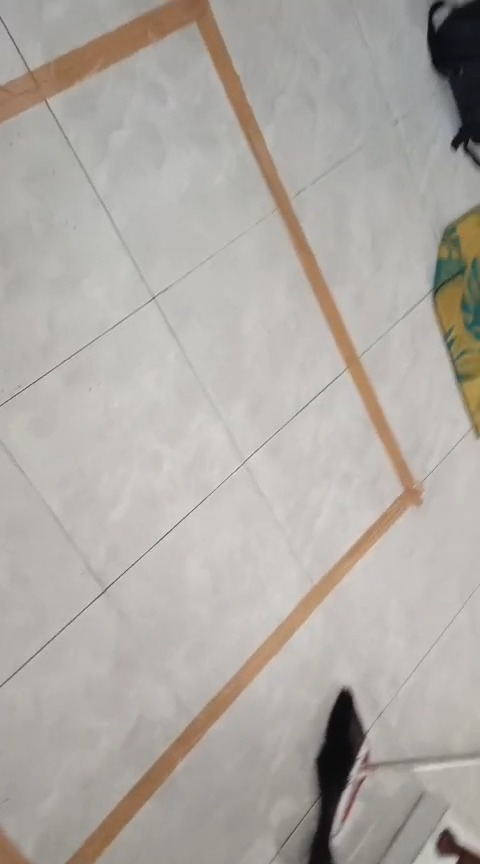floor marking: (198, 0, 420, 505), (67, 574, 329, 863), (2, 0, 219, 119), (216, 58, 300, 253), (333, 406, 420, 584), (0, 829, 31, 863)
